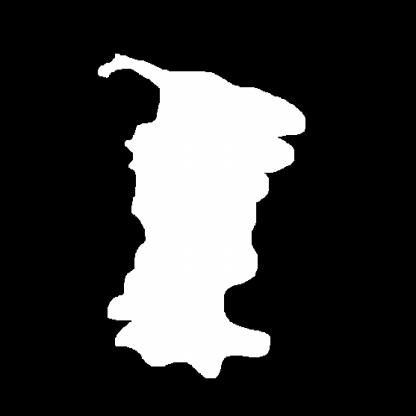malignant: (92, 51, 315, 392)
